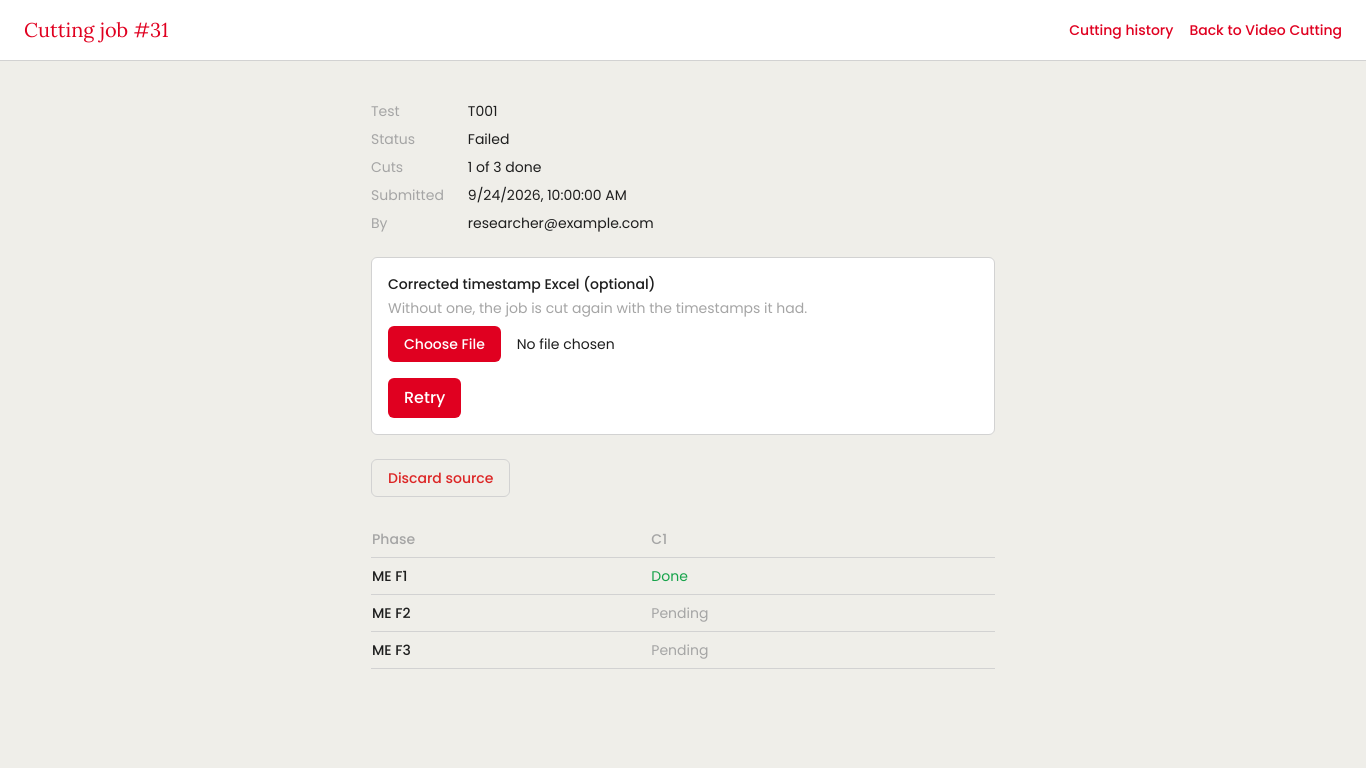
Test case: CuttingJobView › asks a second time before discarding a failed job's source
Click the button with test id "discard-source". click: point(441, 478)
box: x1=371 y1=459 x2=510 y2=497
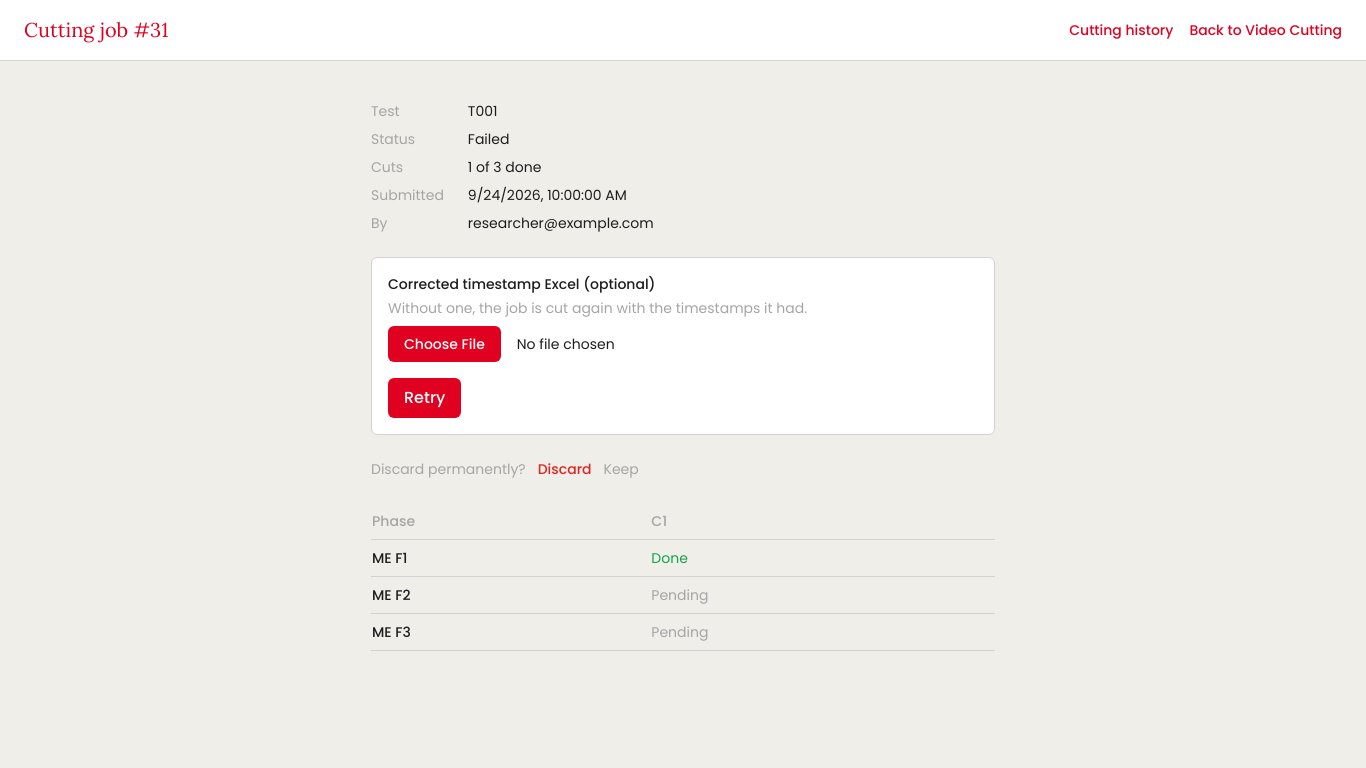
expect the text "Discard permanently?" is shown: met, box x1=371 y1=459 x2=526 y2=479
expect the button with test id "discard-source-confirm" reads "Discard": met, box x1=538 y1=459 x2=592 y2=479
expect the button with test id "discard-source-keep" reads "Keep": met, box x1=604 y1=459 x2=639 y2=479
